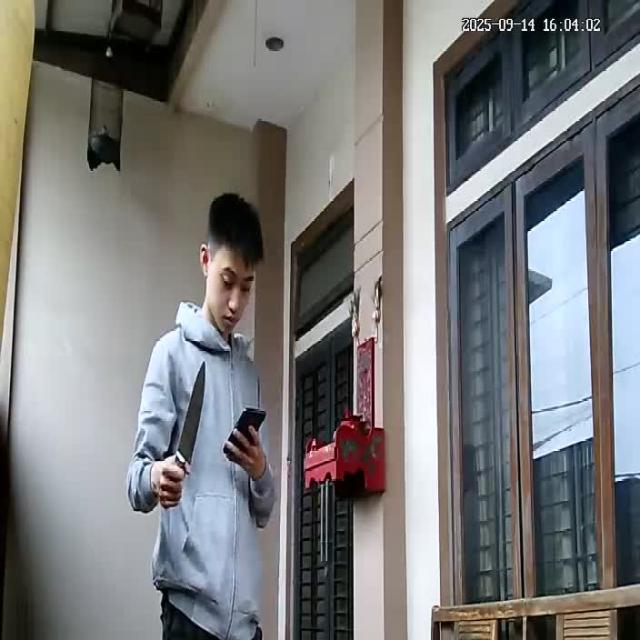senjata_tajam: (174, 359, 206, 467)
